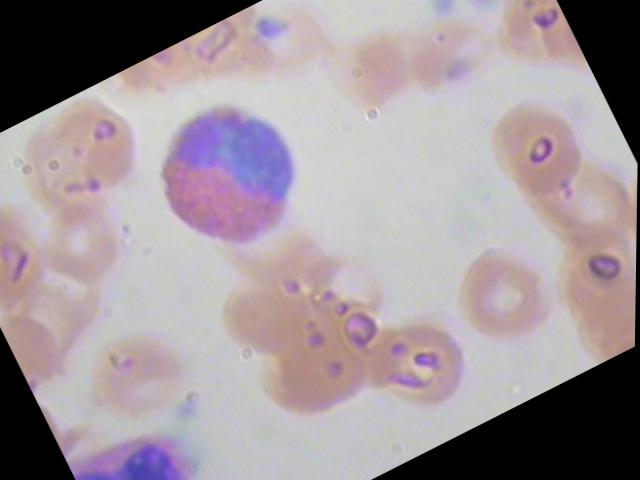Platelets: (244, 4, 292, 52), (433, 47, 481, 95), (169, 391, 215, 435), (419, 0, 468, 28), (461, 0, 510, 19)
Red Blood Cells: (0, 82, 161, 238), (69, 306, 216, 450), (176, 248, 323, 392), (348, 298, 495, 442), (464, 77, 611, 221), (431, 221, 577, 365), (248, 308, 394, 452), (513, 135, 637, 280), (300, 13, 428, 139), (527, 199, 637, 344), (28, 188, 148, 311), (0, 176, 66, 312)
White Blood Cells: (128, 76, 334, 281), (68, 407, 229, 479)
